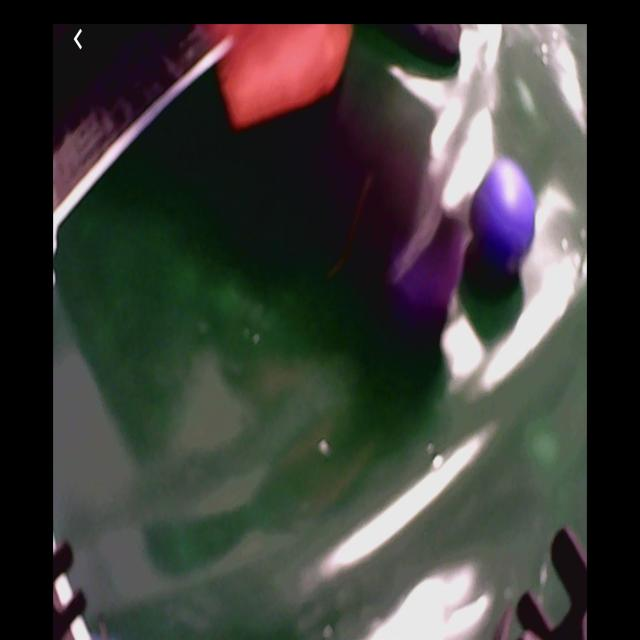ball: (388, 196, 462, 310), (472, 158, 536, 261)
